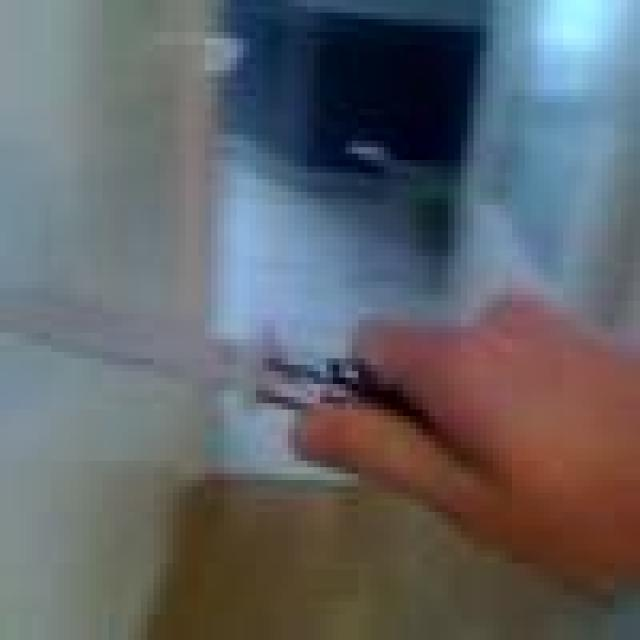knife: (2, 308, 296, 400)
